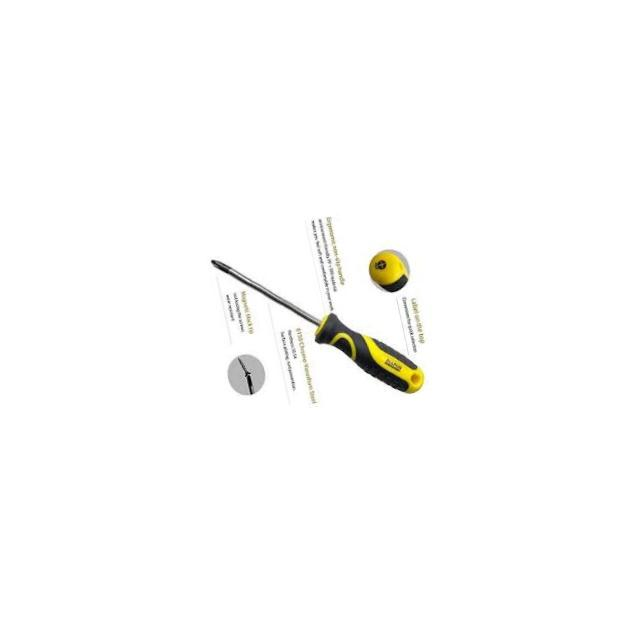screwdriver: (208, 218, 428, 432)
